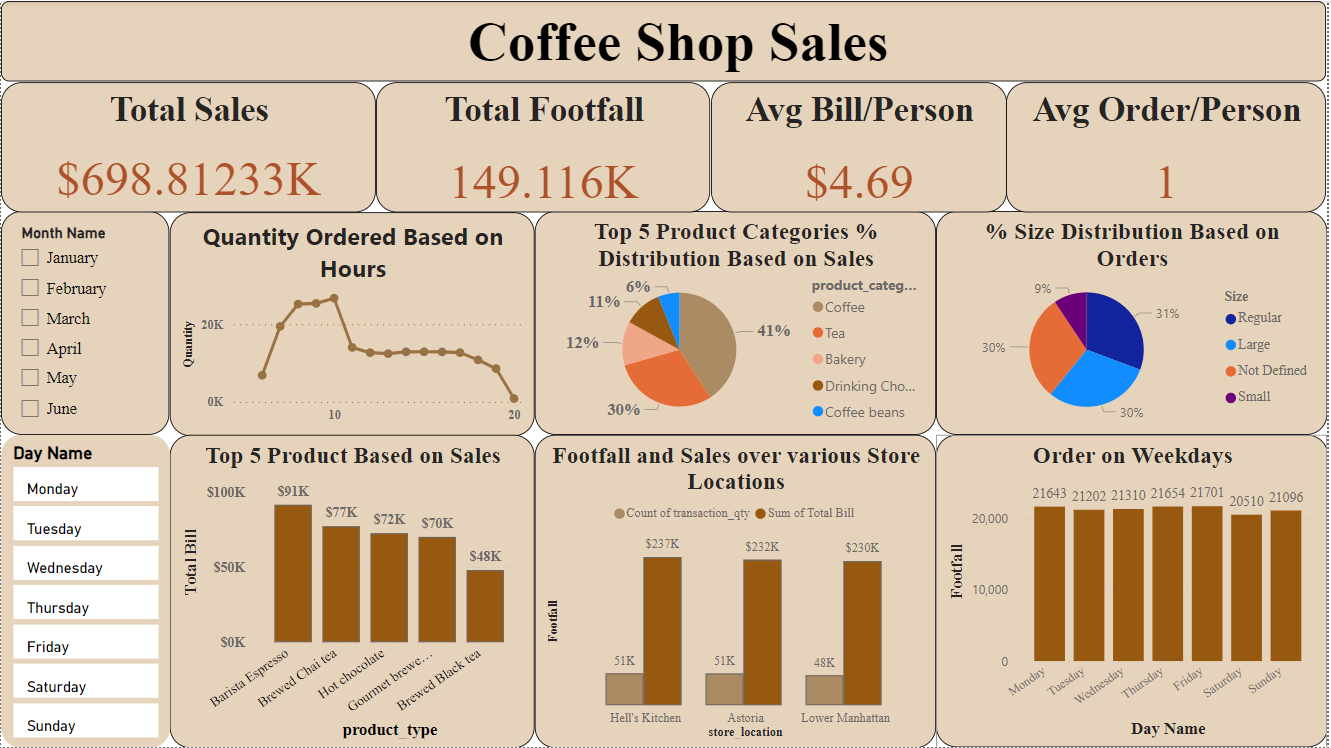

This screenshot's page, from the dashboard's own definition file:
{"tool":"powerbi","page":{"name":"Dashboard","canvas":[1280,720],"ordinal":2},"visuals":[{"type":"lineChart","title":"Quantity Ordered Based on Hours","fields":{"Category":["Transactions.Hour"],"Y":["Sum(Transactions.transaction_qty)"]},"box":[162.8,203.1,406.3,215.7],"z":0},{"type":"pieChart","title":"Top 5 Product Categories % Distribution Based on Sales","fields":{"Category":["Transactions.product_category"],"Y":["Sum(Transactions.Total Bill)"]},"box":[569.2,202.6,332.9,215.9],"z":1000},{"type":"clusteredColumnChart","title":"Top 5 Product Based on Sales","fields":{"Category":["Transactions.product_type"],"Y":["Sum(Transactions.Total Bill)"]},"box":[162.8,417.3,360.6,302.7],"z":2000},{"type":"clusteredColumnChart","title":"Order on Weekdays","fields":{"Category":["Transactions.Day Name"],"Y":["CountNonNull(Transactions.transaction_id)"]},"box":[901.6,418.8,378.4,301.9],"z":3000},{"type":"clusteredColumnChart","title":"Footfall and Sales over various Store Locations","fields":{"Category":["Transactions.store_location"],"Y":["CountNonNull(Transactions.transaction_qty)","Sum(Transactions.Total Bill)"]},"box":[523.4,418.5,378.7,302.7],"z":4000},{"type":"pieChart","title":"% Size Distribution Based on Orders","fields":{"Category":["Transactions.Size"],"Y":["CountNonNull(Transactions.transaction_id)"]},"box":[902.1,202.6,377.5,215.9],"z":5000},{"type":"advancedSlicerVisual","fields":{"Values":["Transactions.Day Name"]},"box":[0,418.5,162.8,302.7],"z":6000},{"type":"slicer","fields":{"Values":["Transactions.Month Name"]},"box":[0,203.1,162.8,215.7],"z":7000},{"type":"cardVisual","title":"Total Sales","fields":{"Data":["Sum(Transactions.Total Bill)"]},"box":[0,77.9,361.7,125.2],"z":8000},{"type":"cardVisual","title":"Total Footfall","fields":{"Data":["CountNonNull(Transactions.transaction_qty)"]},"box":[361.7,77.9,322.8,125.2],"z":9000},{"type":"cardVisual","title":"Avg Bill/Person","fields":{"Data":["Transactions.Average_order_per_person"]},"box":[684.5,77.9,285.2,125.2],"z":10000},{"type":"cardVisual","title":"Avg Order/Person","fields":{"Data":["Transactions.Average_order/person"]},"box":[969.7,77.9,308.9,125.2],"z":11000},{"type":"textbox","box":[0,0,1278.6,77.9],"z":12000}]}

Visuals, with their boxes in screenshot pixels (x1, y1, x2, y2), scaled from the page's 1280x720 canvas onto the 1331x748 screenshot:
"Quantity Ordered Based on Hours" lineChart: BBox(169, 211, 592, 435)
"Top 5 Product Categories % Distribution Based on Sales" pieChart: BBox(592, 210, 938, 435)
"Top 5 Product Based on Sales" clusteredColumnChart: BBox(169, 434, 544, 747)
"Order on Weekdays" clusteredColumnChart: BBox(938, 435, 1330, 747)
"Footfall and Sales over various Store Locations" clusteredColumnChart: BBox(544, 435, 938, 747)
"% Size Distribution Based on Orders" pieChart: BBox(938, 210, 1330, 435)
advancedSlicerVisual - Transactions.Day Name: BBox(0, 435, 169, 747)
slicer - Transactions.Month Name: BBox(0, 211, 169, 435)
"Total Sales" cardVisual: BBox(0, 81, 376, 211)
"Total Footfall" cardVisual: BBox(376, 81, 712, 211)
"Avg Bill/Person" cardVisual: BBox(712, 81, 1008, 211)
"Avg Order/Person" cardVisual: BBox(1008, 81, 1330, 211)
textbox: BBox(0, 0, 1330, 81)
